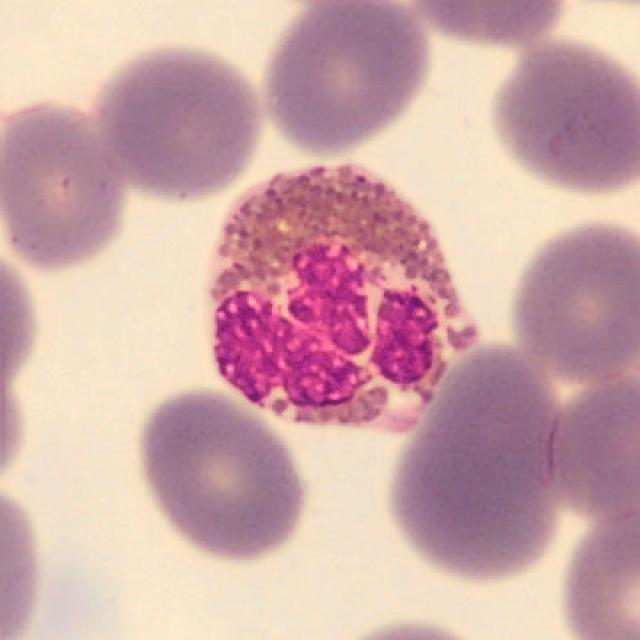Eosinofilo: (203, 164, 480, 436)
